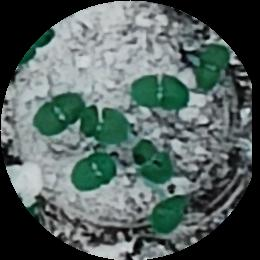Basil: (130, 76, 190, 111), (77, 107, 134, 143), (35, 90, 85, 131), (134, 141, 172, 179), (153, 195, 190, 231), (201, 41, 226, 94), (74, 156, 112, 187)
